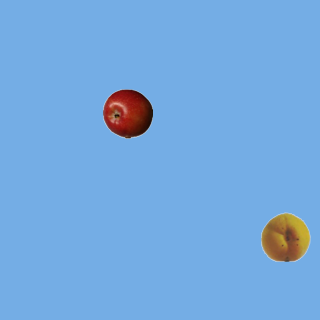Apple Braeburn: (102, 88, 152, 138)
Peach 2: (260, 211, 310, 261)
